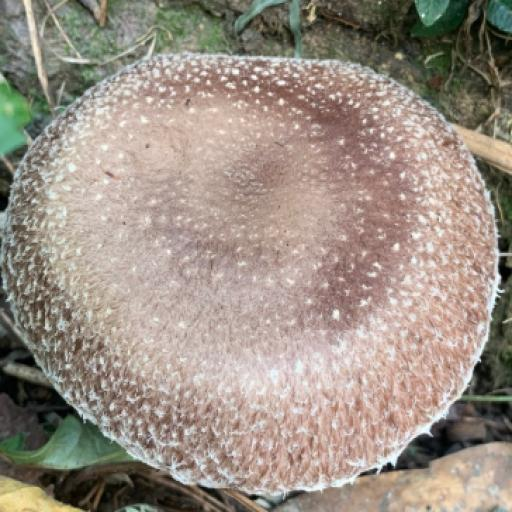Shiitake Mushroom: (0, 46, 509, 504)
